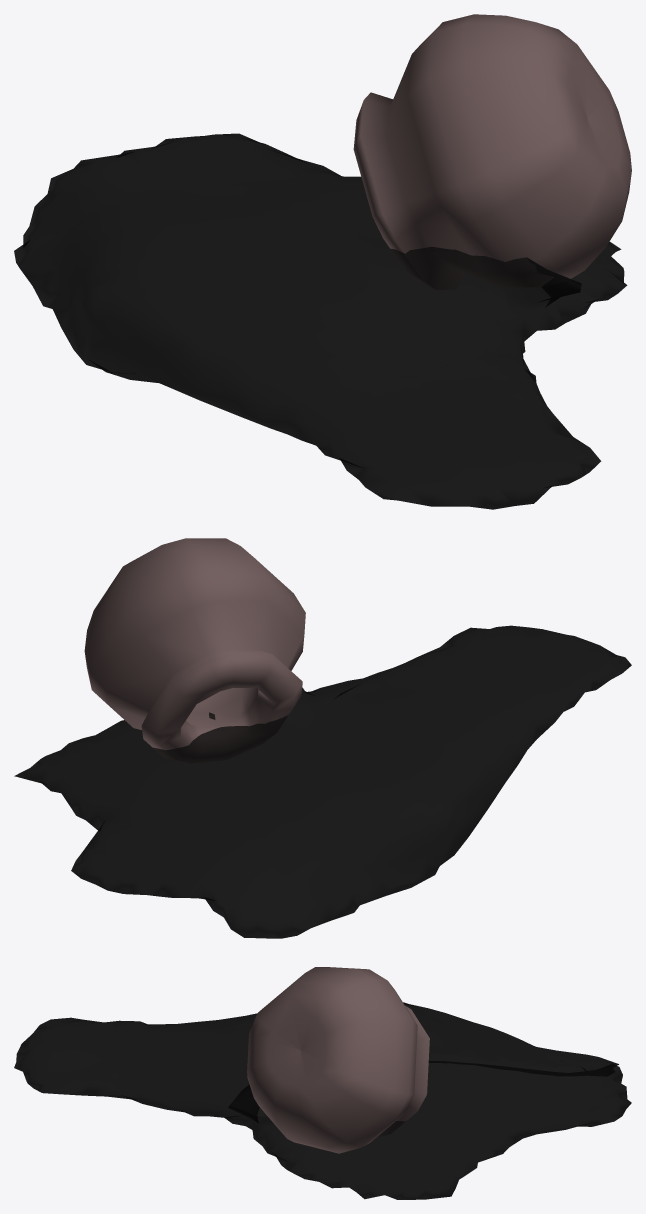
The model's file is HoneySploch.fbx.
3 renders of one model, top to bottom at view 1: azimuth 30°, elevation 25°; view 2: azimuth 150°, elevation 25°; view 3: azimuth 270°, elevation 25°, orthographic. The views are drawn at different scales.
Parts seen in each view (by area): view 1: Sploch9, HoneyJarMod8; view 2: Sploch9, HoneyJarMod8; view 3: Sploch9, HoneyJarMod8.
Part boxes in pixels (left/top/right/bottom): Sploch9: left=14, top=133, right=627, bottom=509; HoneyJarMod8: left=353, top=14, right=631, bottom=289; Sploch9: left=14, top=625, right=631, bottom=938; HoneyJarMod8: left=84, top=538, right=305, bottom=763; Sploch9: left=14, top=1002, right=631, bottom=1199; HoneyJarMod8: left=247, top=967, right=429, bottom=1153.
Size of the model in its own units: 0.6259 by 0.3472 by 1.
